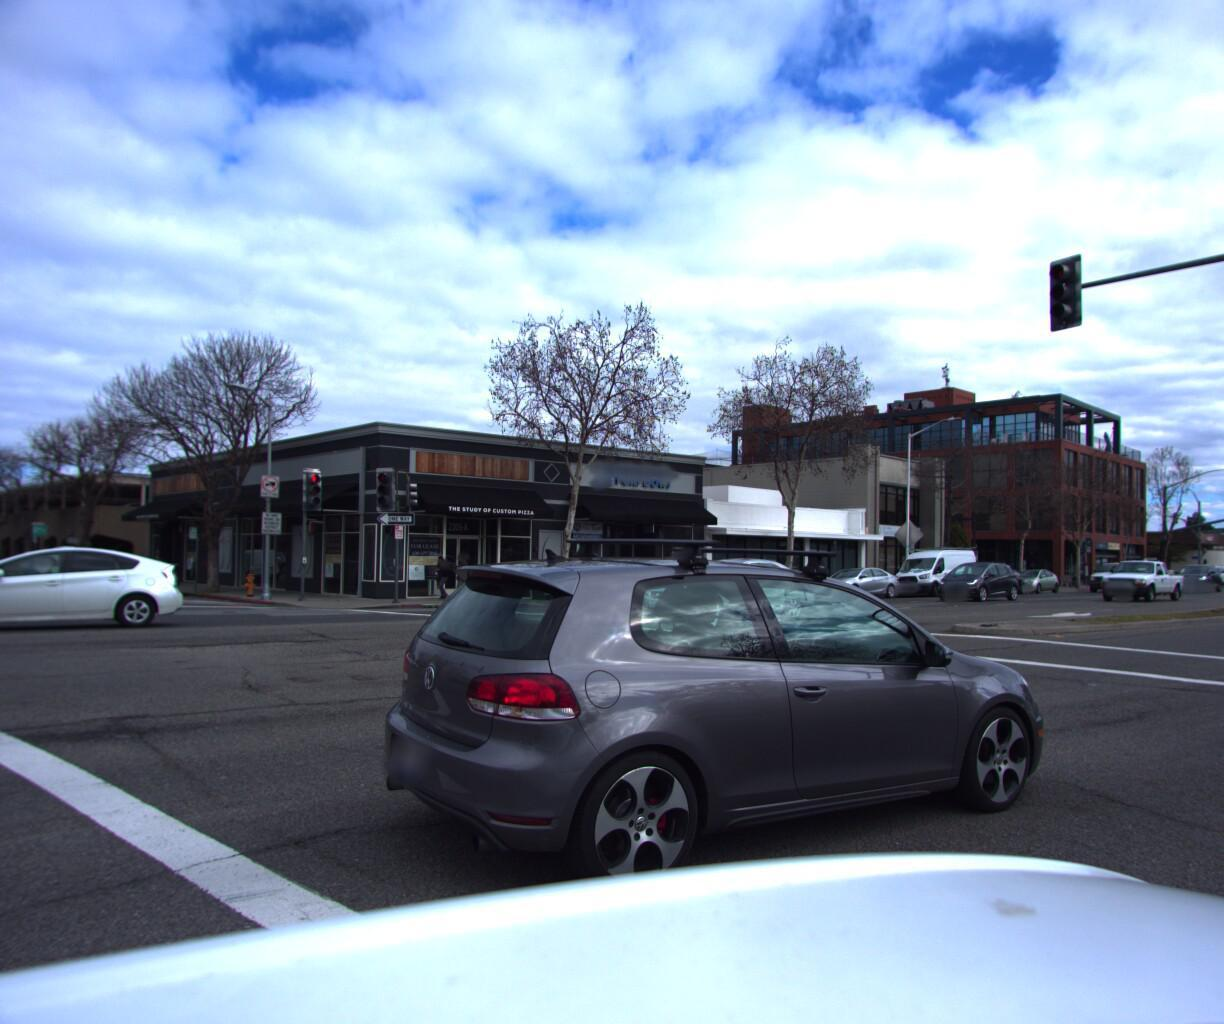car: (320, 516, 1103, 993), (0, 542, 179, 637), (625, 553, 824, 623), (534, 549, 685, 606), (877, 534, 985, 594), (1089, 552, 1189, 597), (97, 549, 194, 595), (924, 552, 1025, 596), (799, 560, 907, 597), (30, 540, 110, 585), (1080, 554, 1150, 587), (996, 561, 1061, 589), (1163, 561, 1222, 591)
